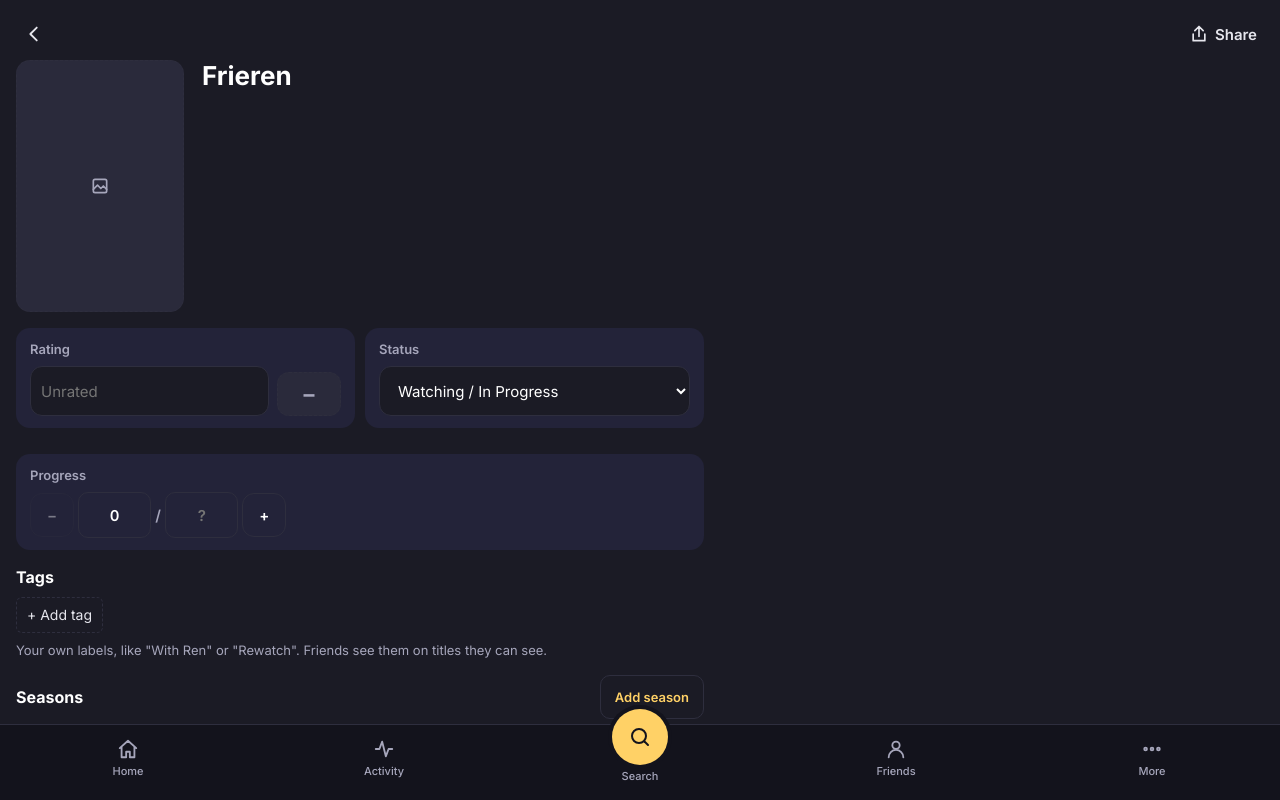
Test: rate on complete › "Later" closes it and saves nothing more
Select "Completed" in the dropdown labelled "Status" at (534, 391), box [379,366,690,416]
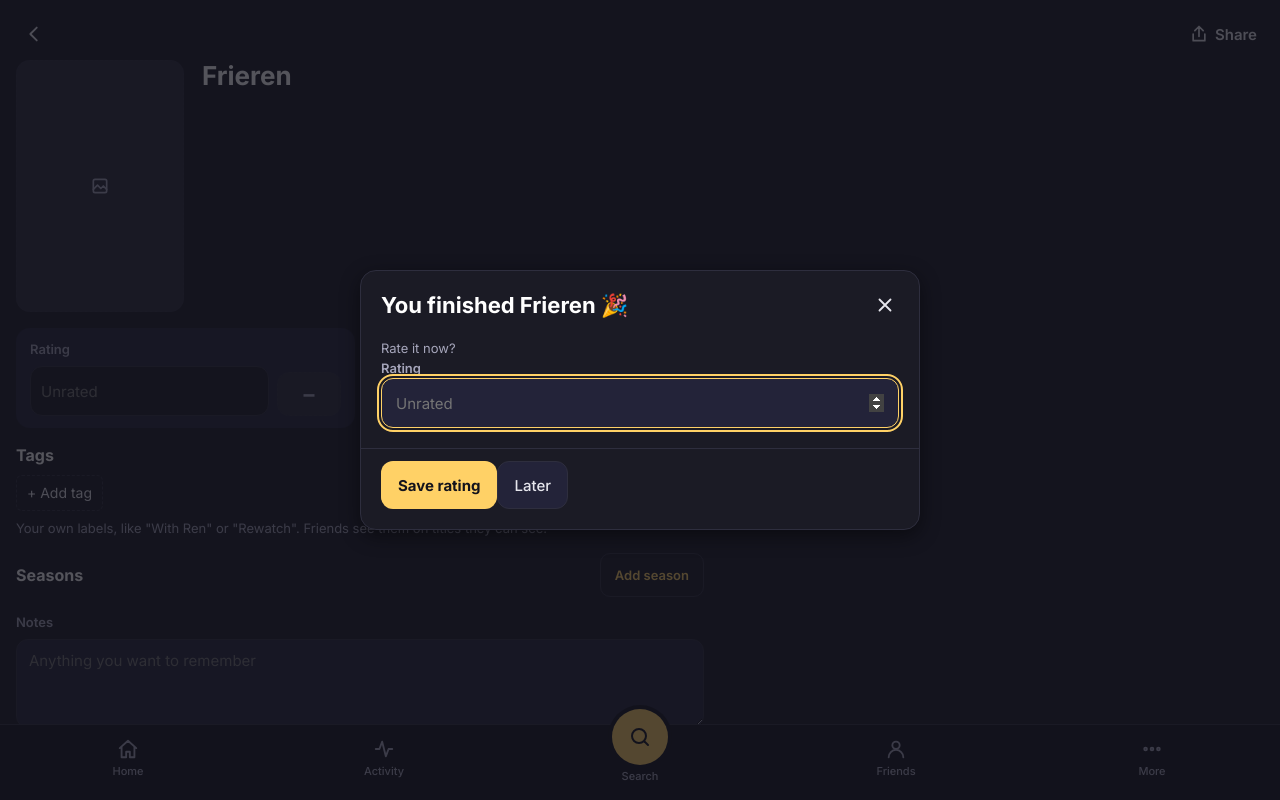
Click the button "Later" at (533, 485), box [498,461,568,509]
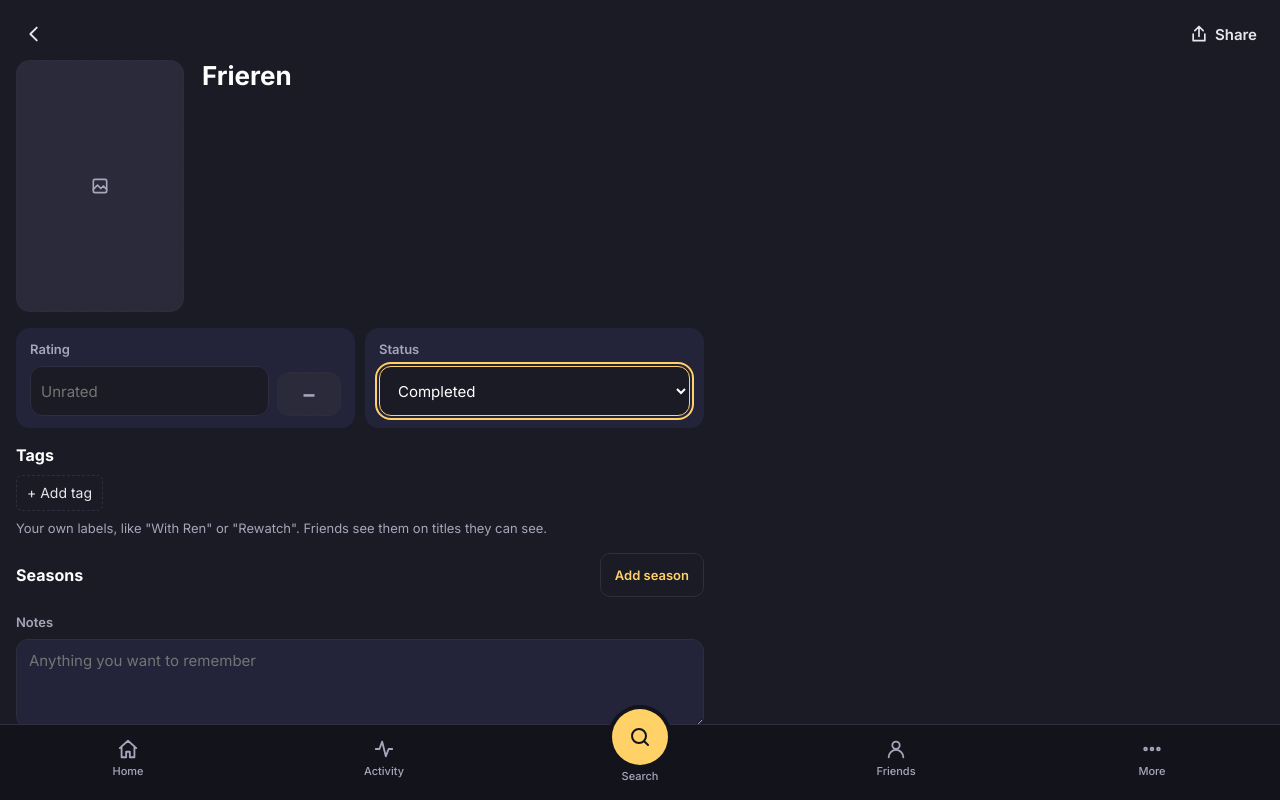
Result: the heading "You finished" is gone
